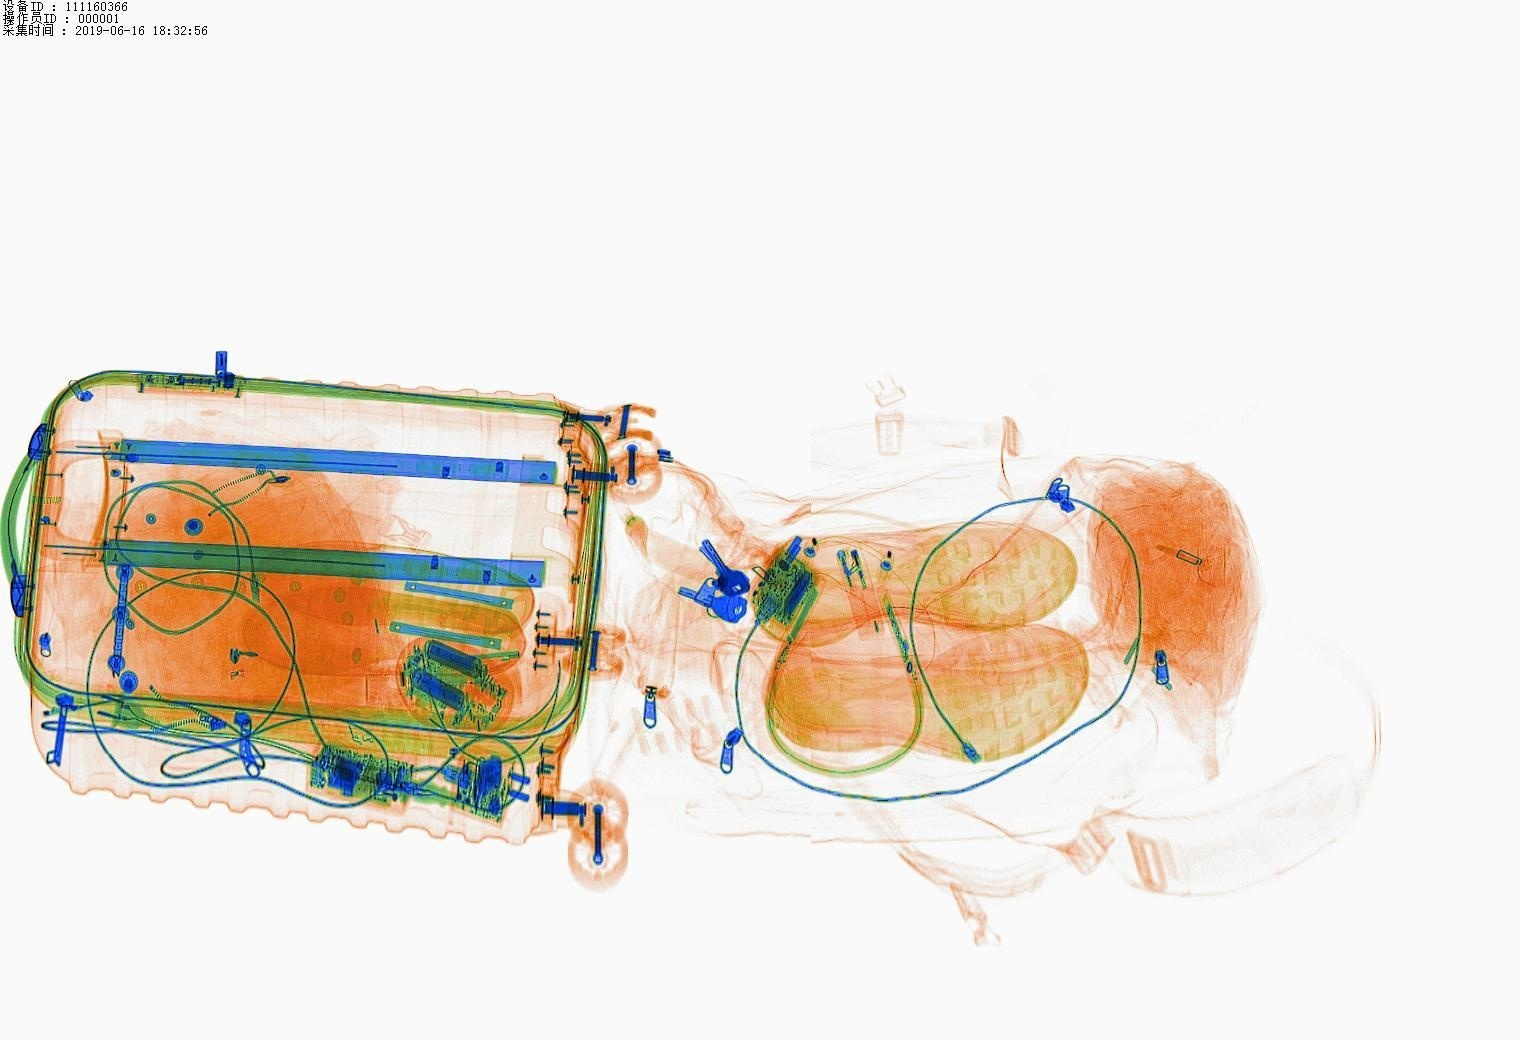NonmetallicFire: (824, 527, 912, 654)
